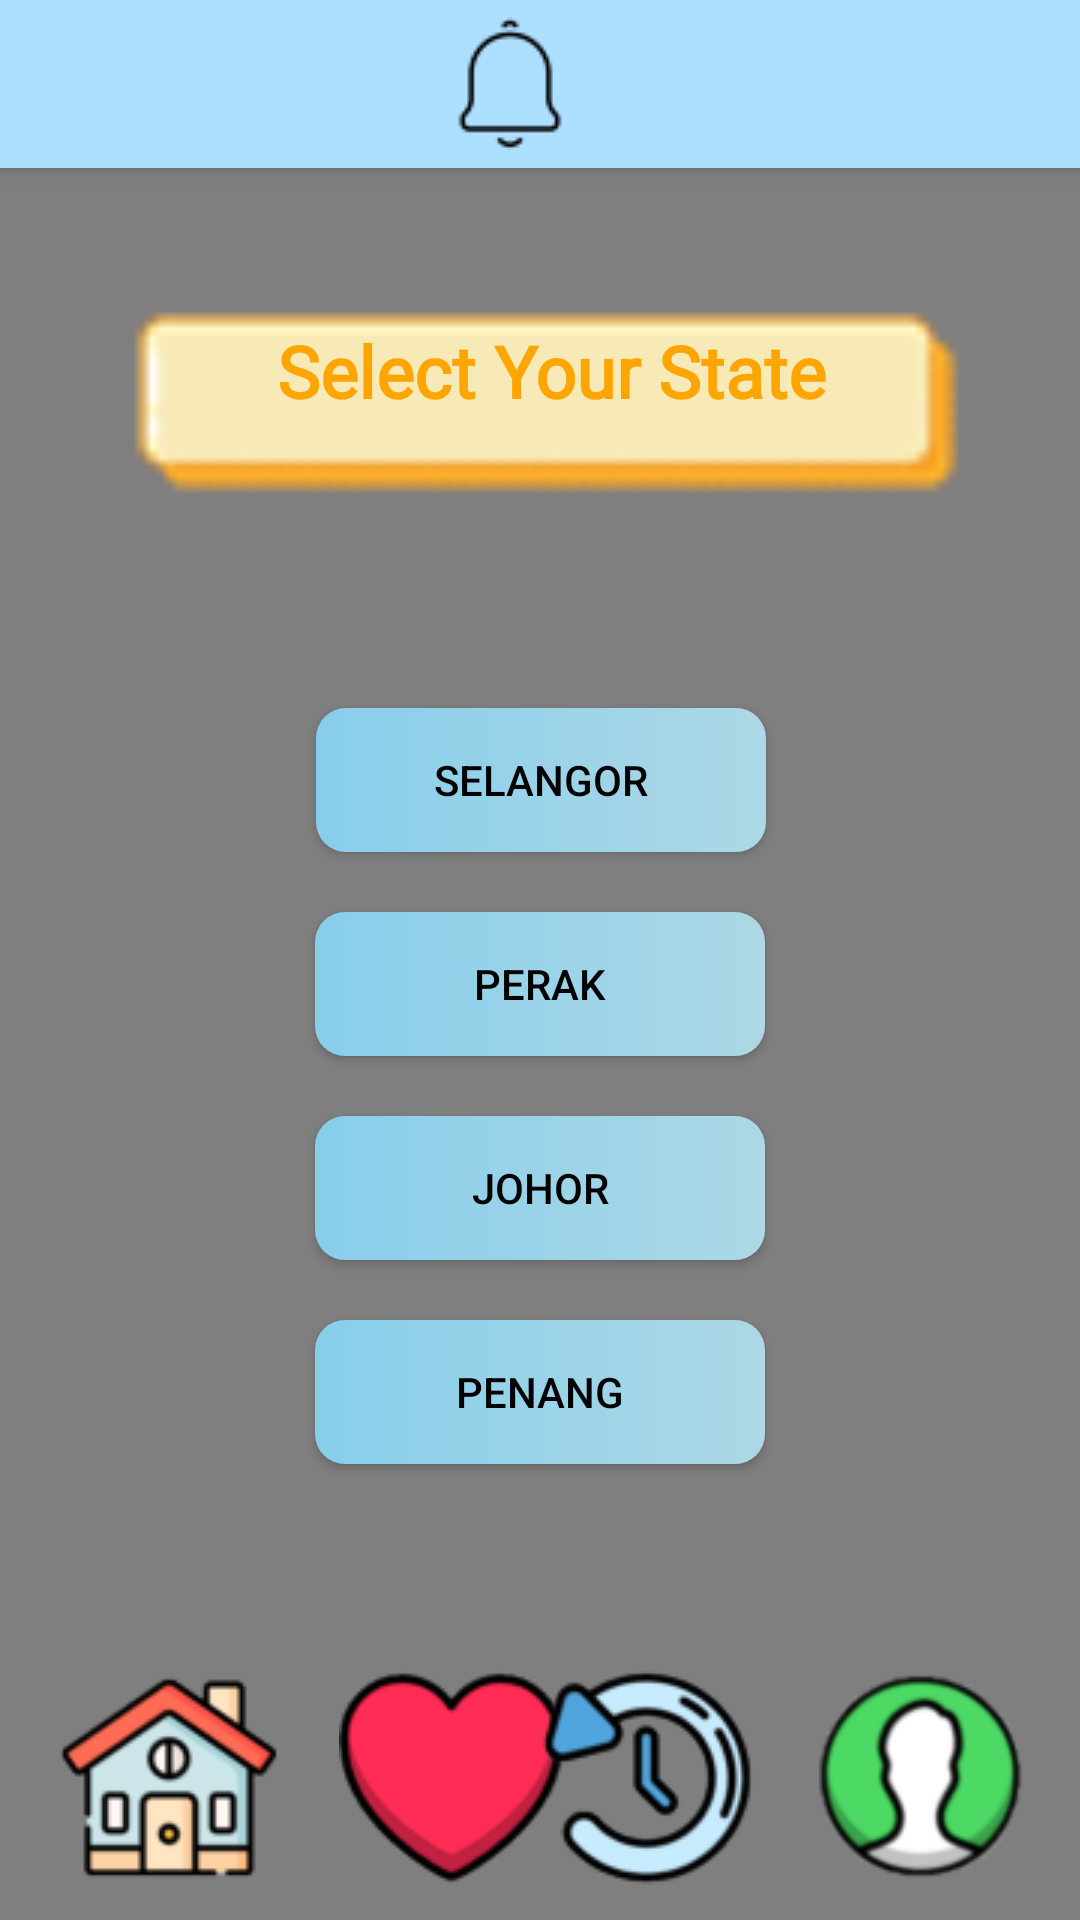

Icons on this 1080 × 1920 Android screen, each with its box as (x1, y1, x2, y2):
heart: (339, 1673, 564, 1882)
history: (537, 1673, 751, 1882)
home: (62, 1679, 277, 1876)
notification: (458, 18, 562, 148)
profile: (819, 1676, 1021, 1876)
